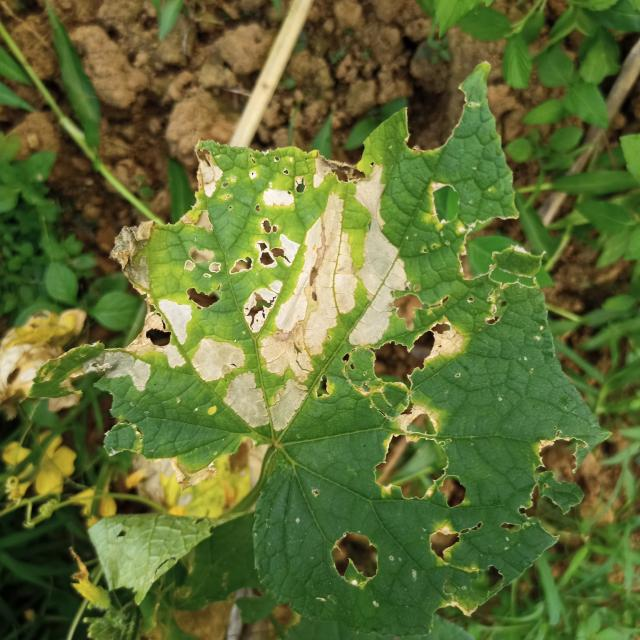disease_cucumber: (111, 149, 538, 448)
